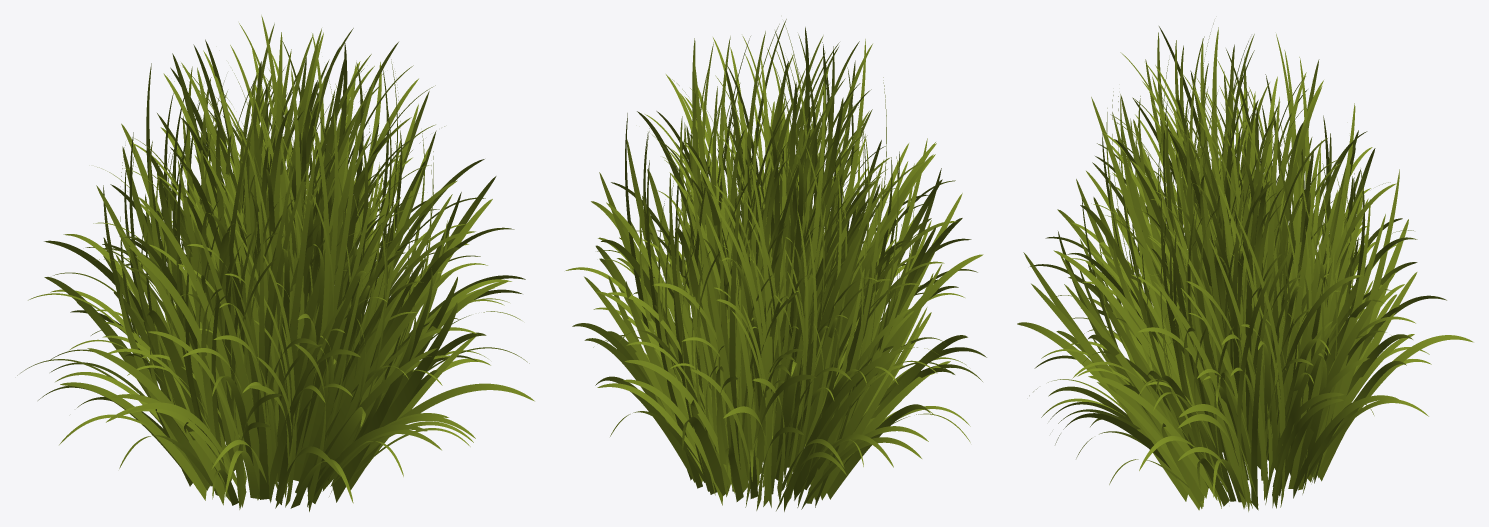
The model's file is fern.dae.
The picture shows the model from 3 angles, left to right: view 1: azimuth 30°, elevation 25°; view 2: azimuth 150°, elevation 25°; view 3: azimuth 270°, elevation 25°; orthographic projection. The views are drawn at different scales.
Visible parts, largest first — view 1: fur_instance_8 (×84); view 2: fur_instance_8 (×97); view 3: fur_instance_8 (×81).
Part boxes in pixels (x1,y1,x2,y2): fur_instance_8 (×84): [60, 15, 534, 511]; fur_instance_8 (×97): [572, 31, 983, 511]; fur_instance_8 (×81): [1017, 27, 1473, 511].
Size of the model in its own units: 78.91 by 76.5 by 85.19.
